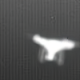plane: (28, 31, 80, 68)
